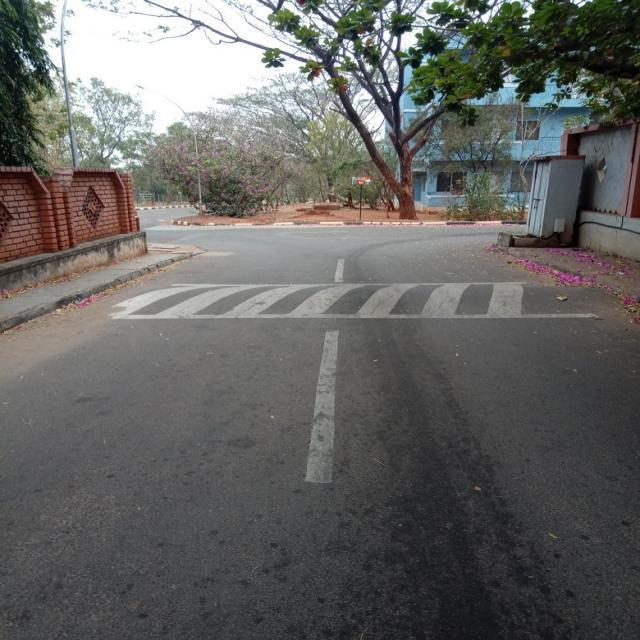speedbreaker: (120, 278, 592, 320)
